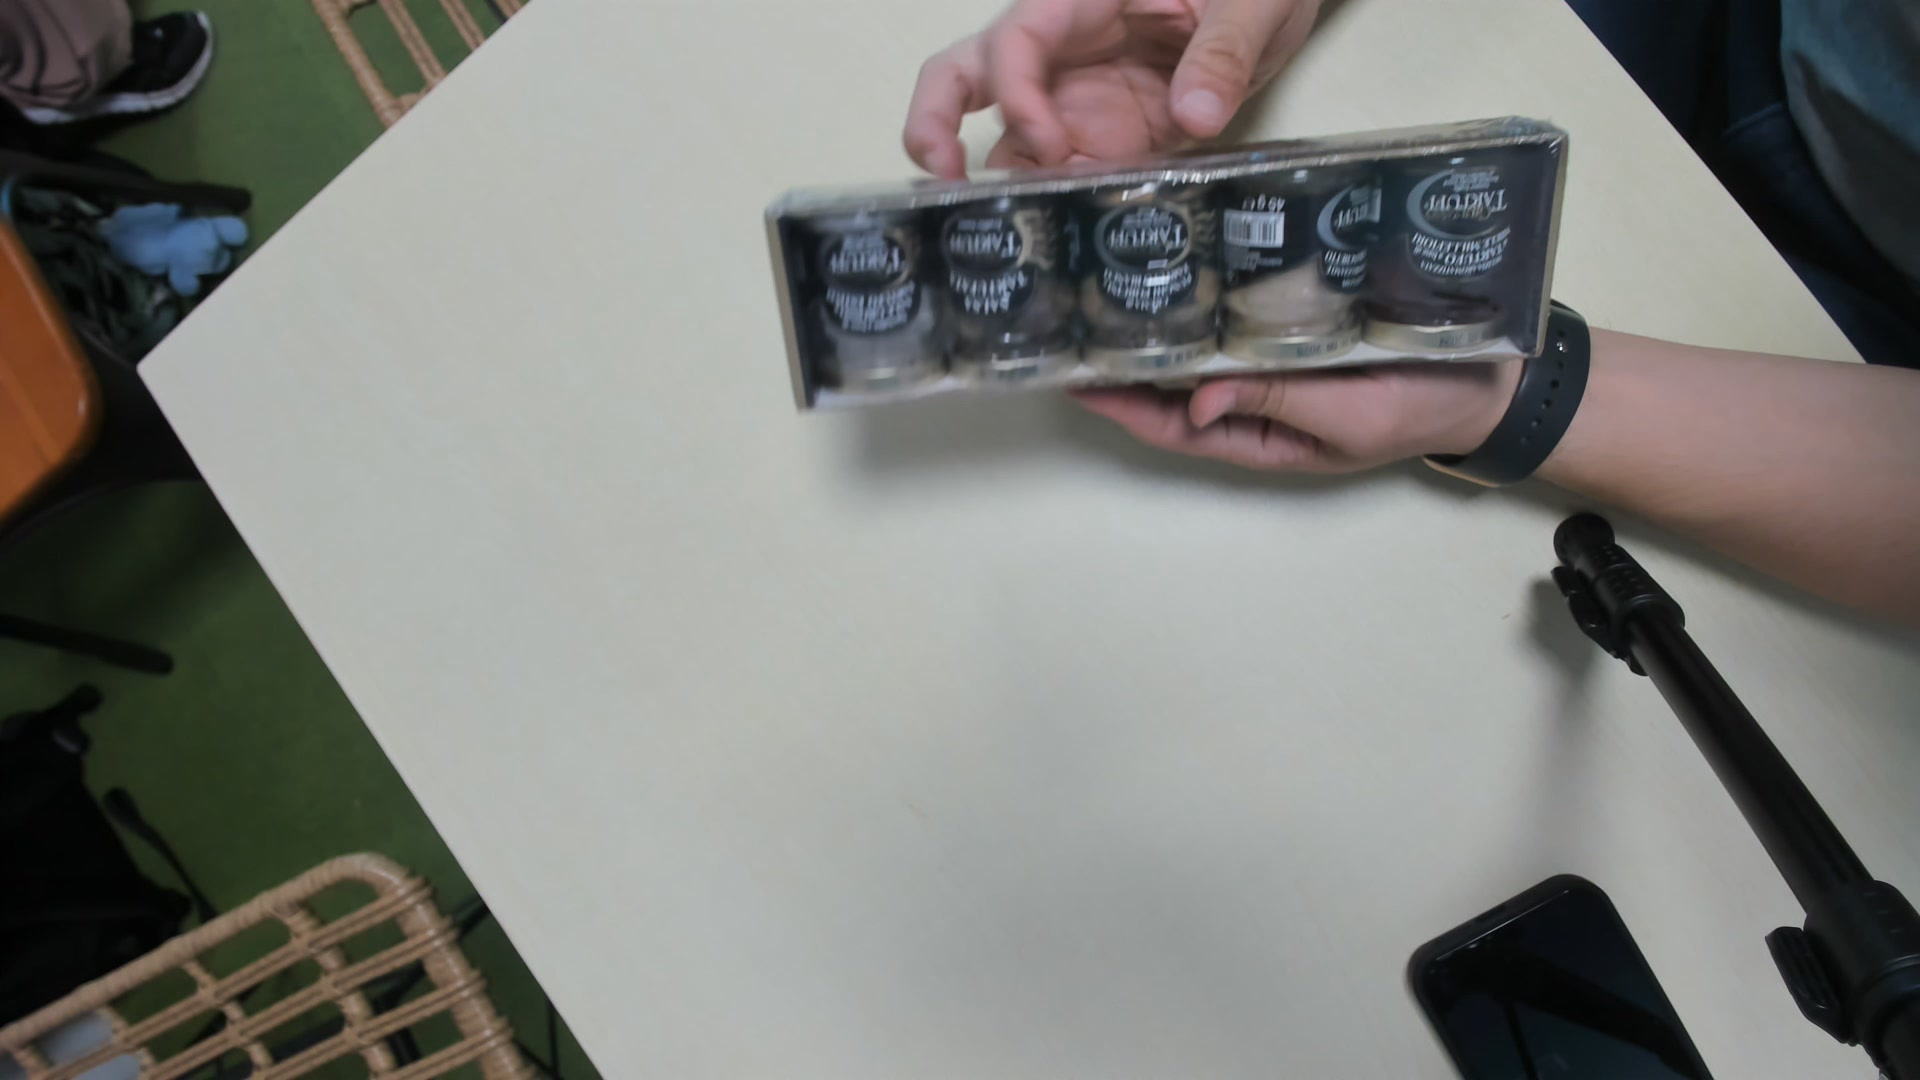OtherSauceDressing_500-599g_NonHalal_NonHealthy: (758, 117, 1565, 406)
